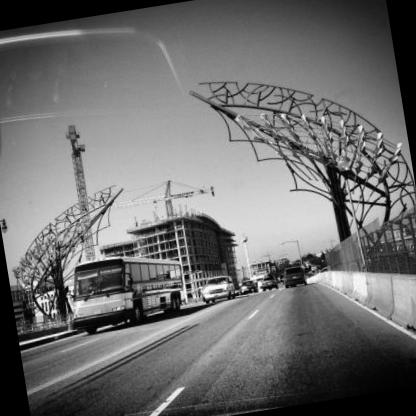bus: (57, 247, 193, 345)
car: (196, 275, 236, 308), (285, 268, 309, 290), (240, 279, 261, 299), (261, 278, 280, 294)
